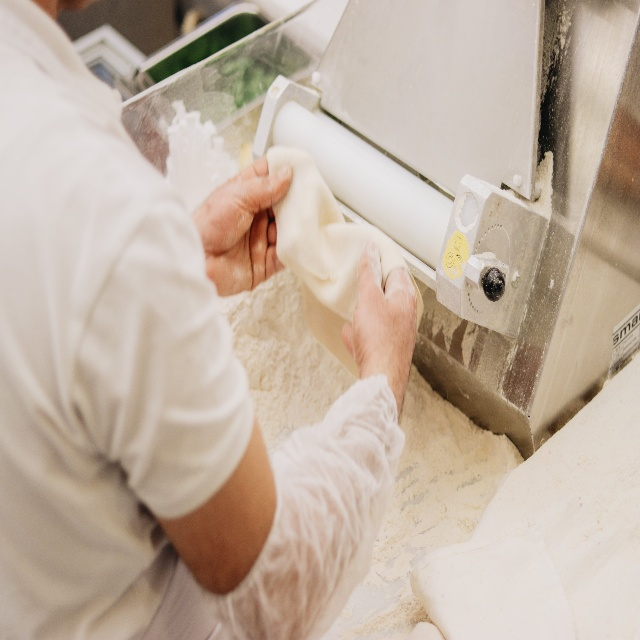Sin_guantes: (193, 156, 293, 297), (341, 237, 418, 415)
